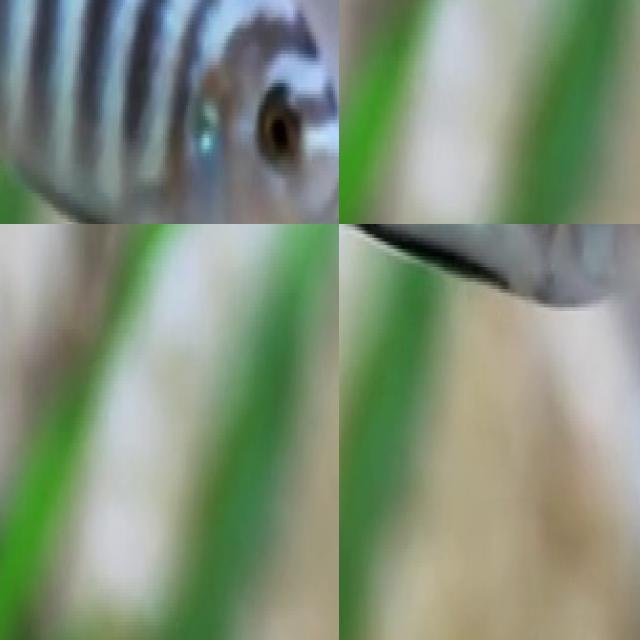fish: (0, 0, 339, 224), (339, 224, 640, 314)
